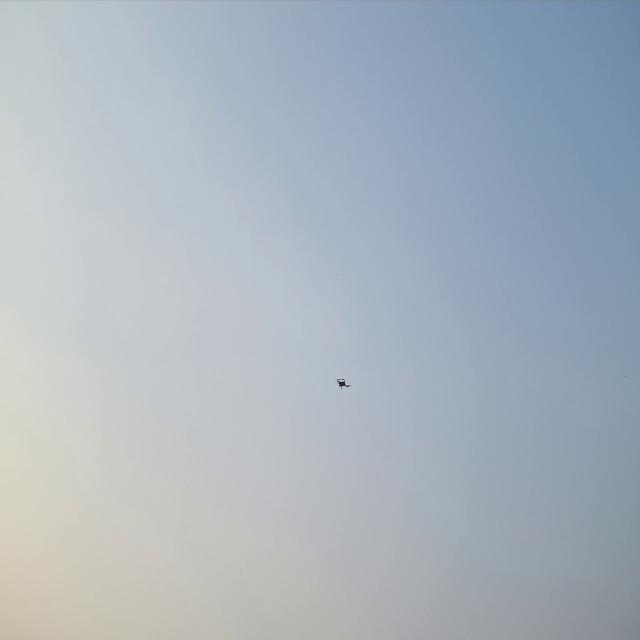UAV: (333, 376, 352, 392)
